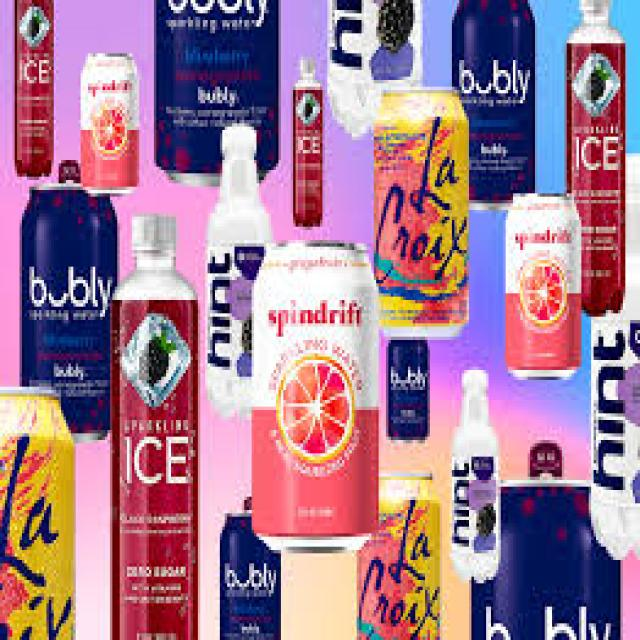Cans: (246, 233, 378, 560), (369, 77, 474, 343)
